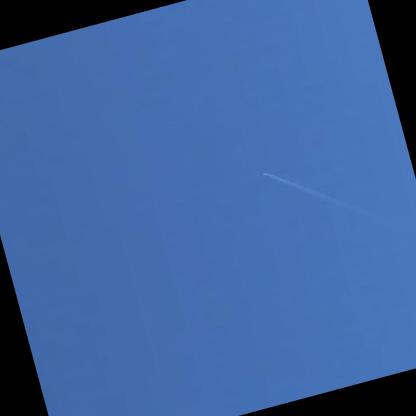plane: (259, 165, 270, 177)
